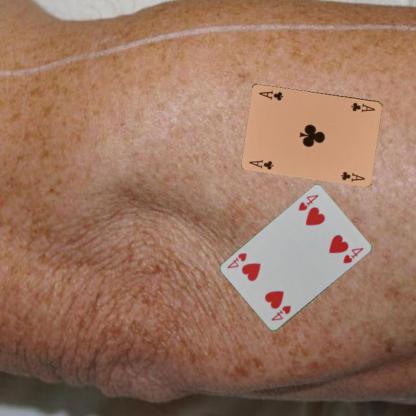4h: (296, 192, 319, 212), (269, 303, 292, 322)
Ac: (247, 156, 275, 170), (349, 100, 376, 113)
